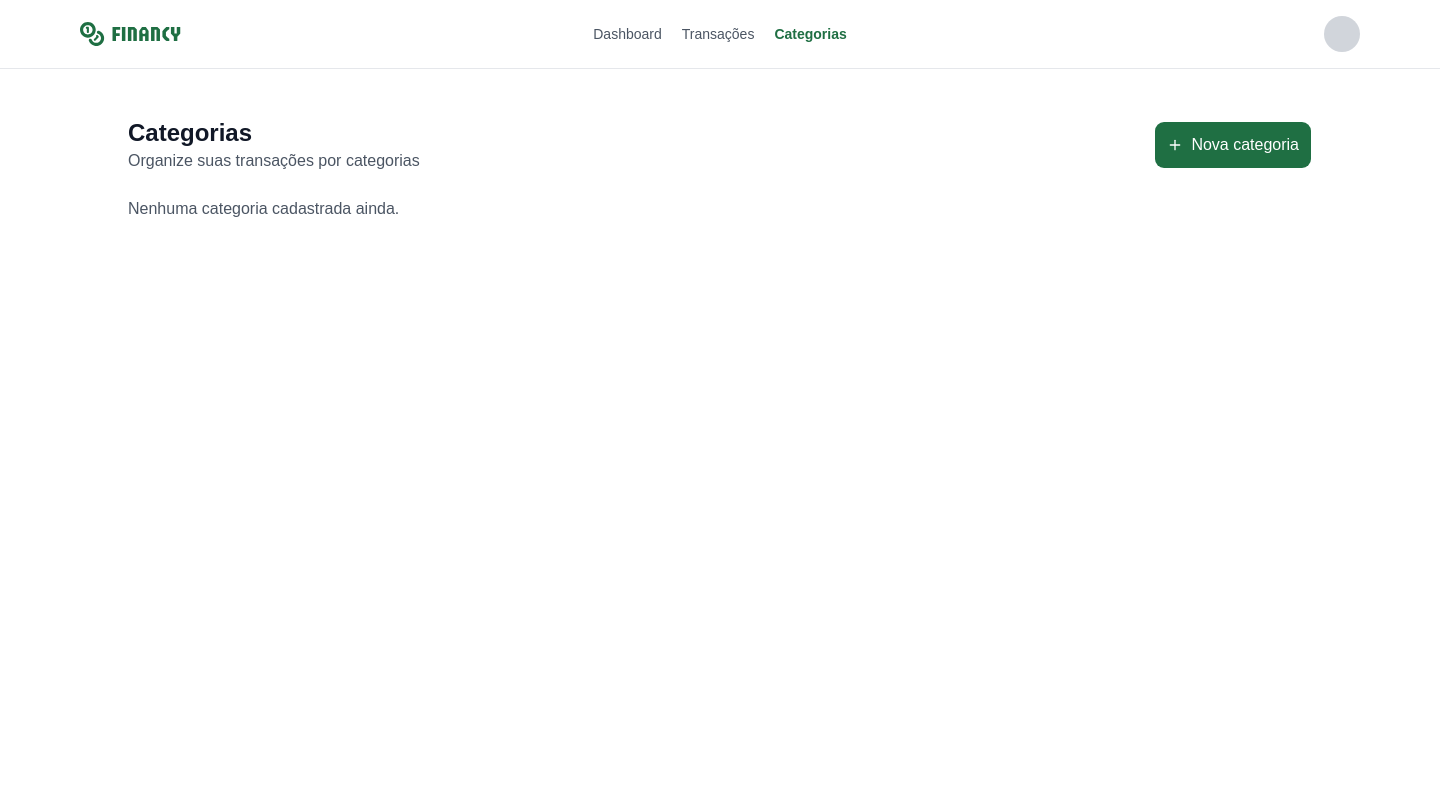
Test case: CategoriesPage › opens the dialog when "Nova categoria" is clicked
Click the button "Nova categoria".
click(1233, 145)  # box [1154,121,1312,169]
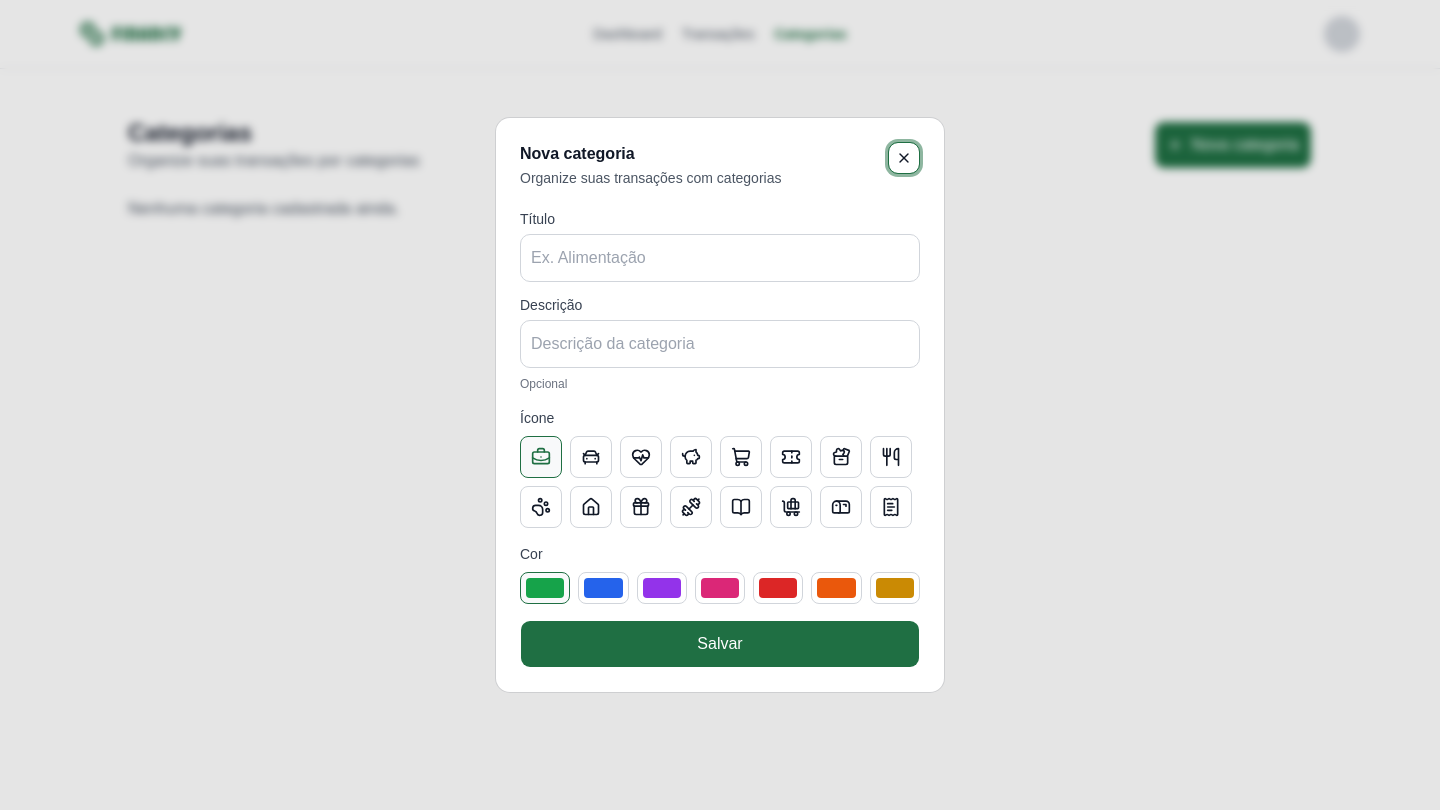
expect the heading "Nova categoria" is shown: met, box [520,145,635,162]
